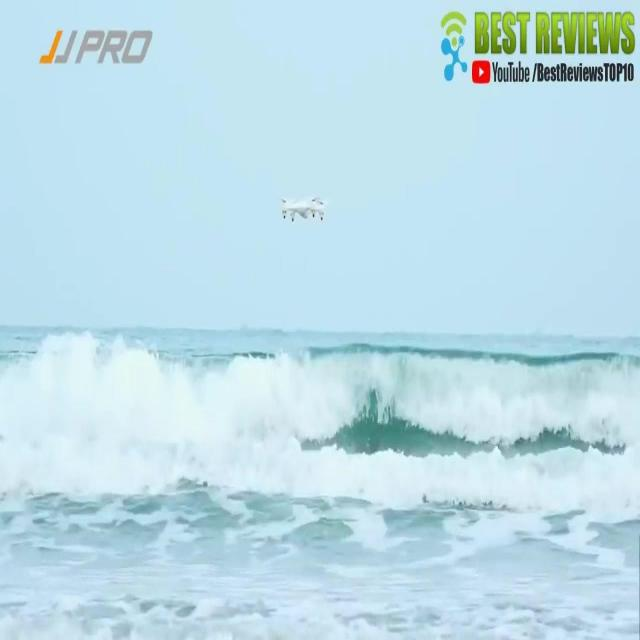UAV: (280, 196, 326, 222)
